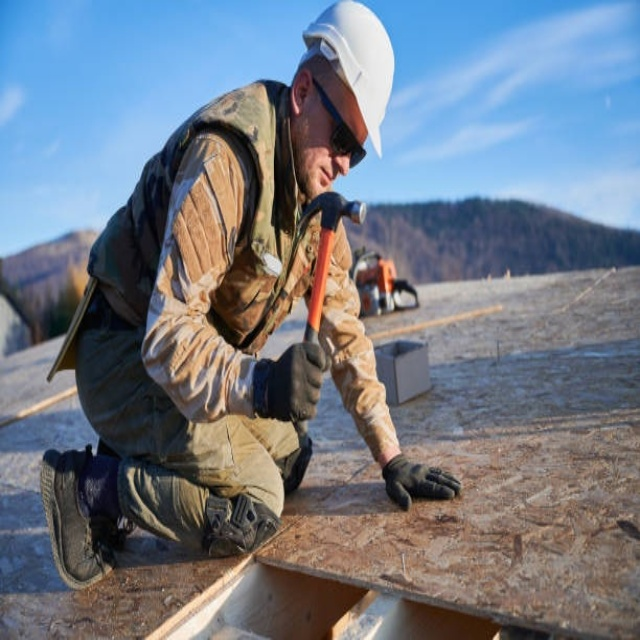Gafas: (312, 75, 366, 169)
Guantes: (254, 340, 327, 424), (381, 453, 461, 510)
Sin_mascara: (310, 156, 341, 201)
